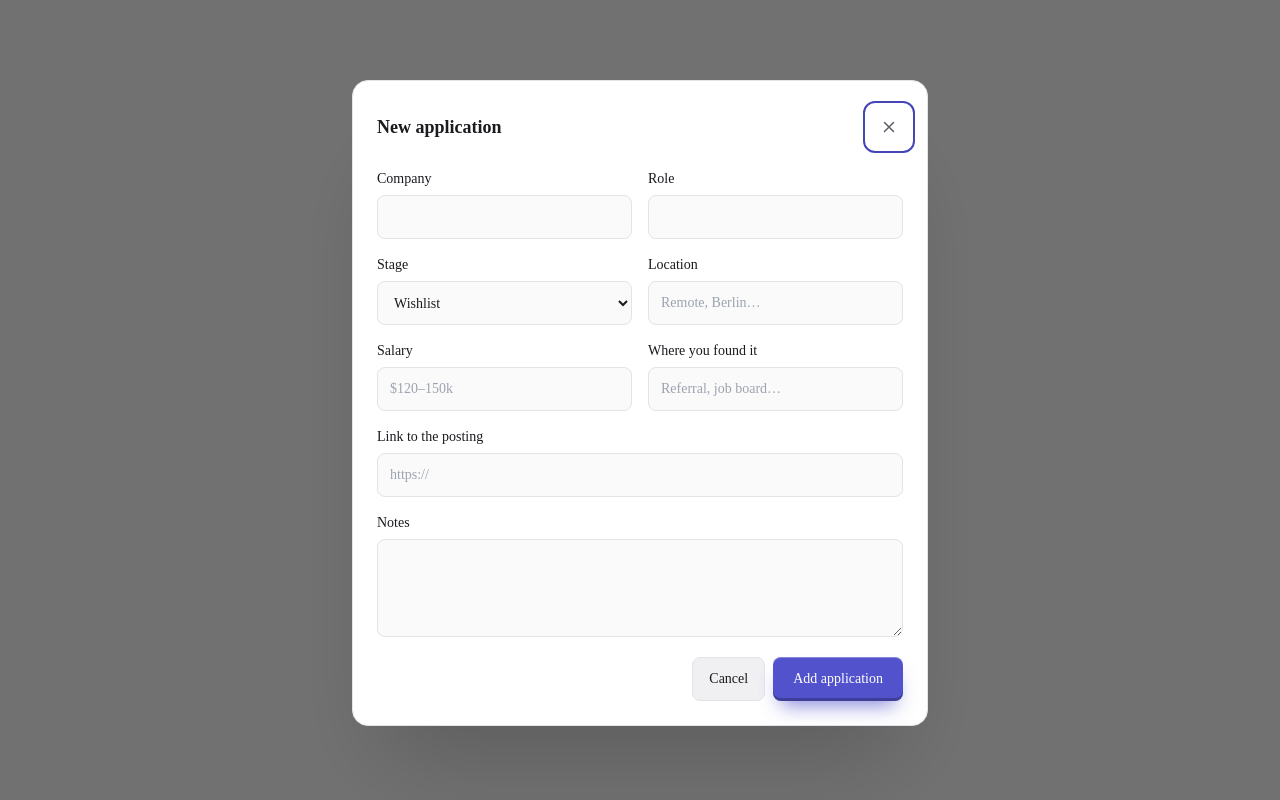
NewApplicationDialog › explains what is missing instead of adding an empty card
The image size is (1280, 800).
Click the button "Add application".
click(838, 679)  # box 773,657 -> 903,701
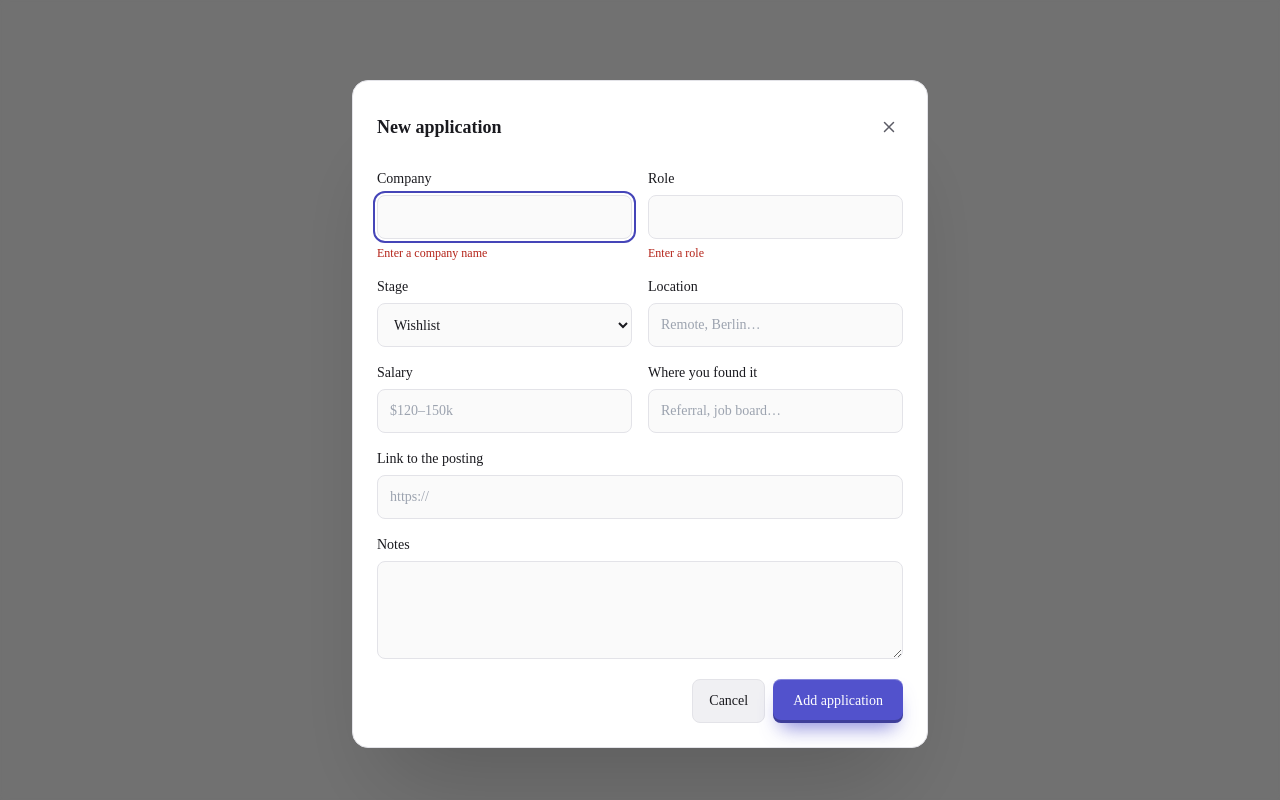
Expected: the text "Enter a company name" is shown, 377,246 -> 487,260
Expected: the text "Enter a role" is shown, 648,246 -> 704,260
